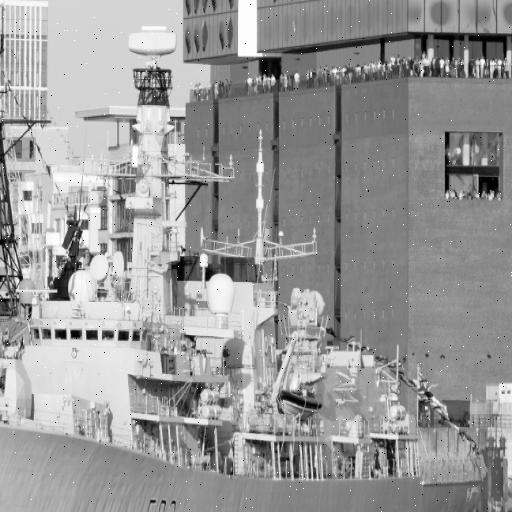Fragata: (1, 85, 490, 512)
